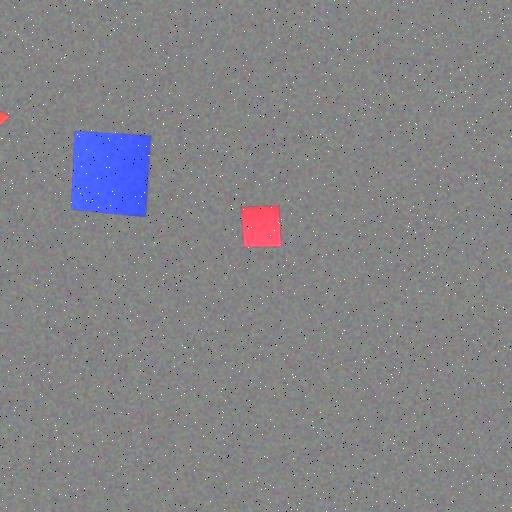BLUE_SQUARE: (70, 130, 152, 218)
RED_SQUARE: (240, 205, 282, 248)
